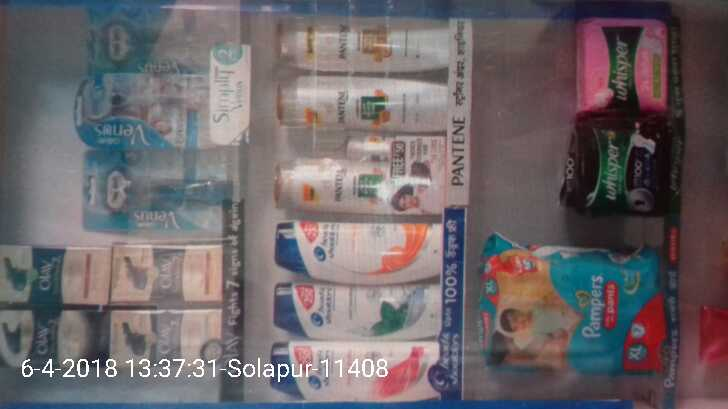venus: (78, 149, 247, 235), (74, 71, 247, 149), (87, 2, 247, 71)
